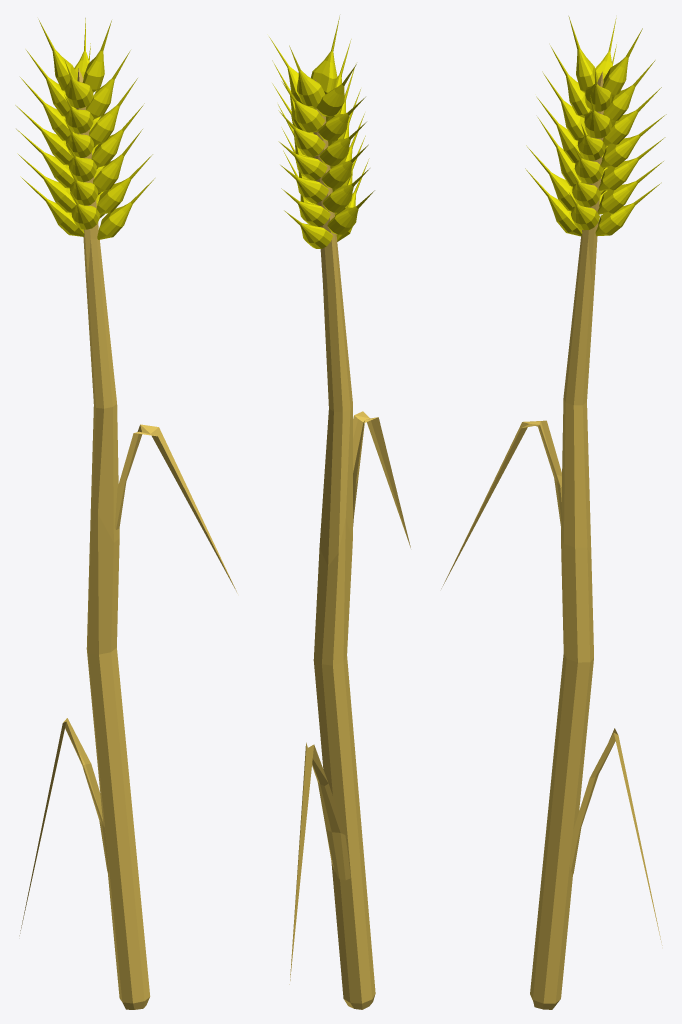
File: wheatSimple.fbx
3 views of the same model, side by side, from view 1: azimuth 90°, elevation 25°; view 2: azimuth 150°, elevation 25°; view 3: azimuth 270°, elevation 25° (orthographic).
Parts seen in each view (by area): view 1: Trunk.001, Granes.003, Bent leaf, Bent leaf.002; view 2: Trunk.001, Granes.003, Bent leaf.002, Bent leaf; view 3: Trunk.001, Granes.003, Bent leaf, Bent leaf.002.
Boxes of the visible parts, x1,y1,x2,y2 form: Trunk.001: (76,68,150,1009); Granes.003: (15,18,154,239); Bent leaf: (114,424,237,593); Bent leaf.002: (19,718,108,935); Trunk.001: (313,79,375,1009); Granes.003: (269,16,374,248); Bent leaf.002: (289,742,350,984); Bent leaf: (353,411,410,547); Trunk.001: (530,71,604,1009); Granes.003: (525,16,666,236); Bent leaf: (441,420,563,588); Bent leaf.002: (569,728,662,945).
Bounding box in the file's own units: 771 × 6134 × 1268.
